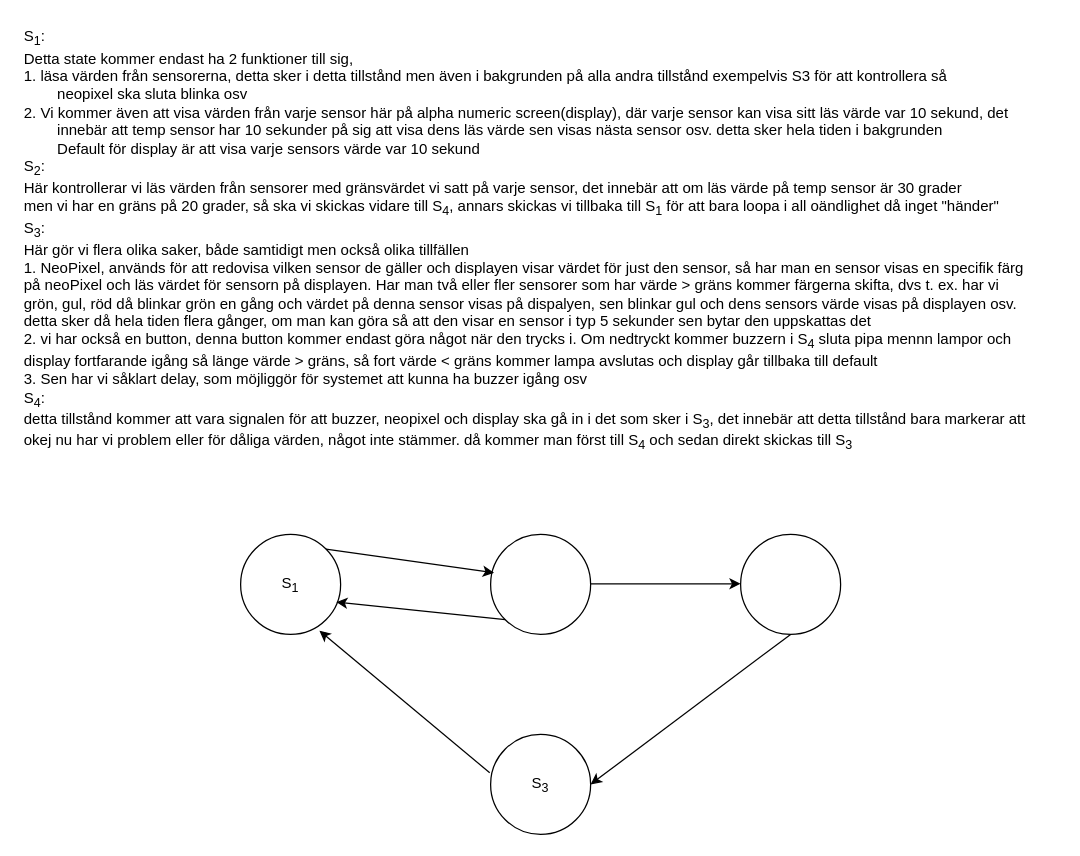
The diagram is 1080 pixels wide and 856 high, and some of its shapes have lost their labels. The centre of each missing label's shape, as x and y in pixels:
S 2: pixel 540 583
S 4: pixel 790 583
